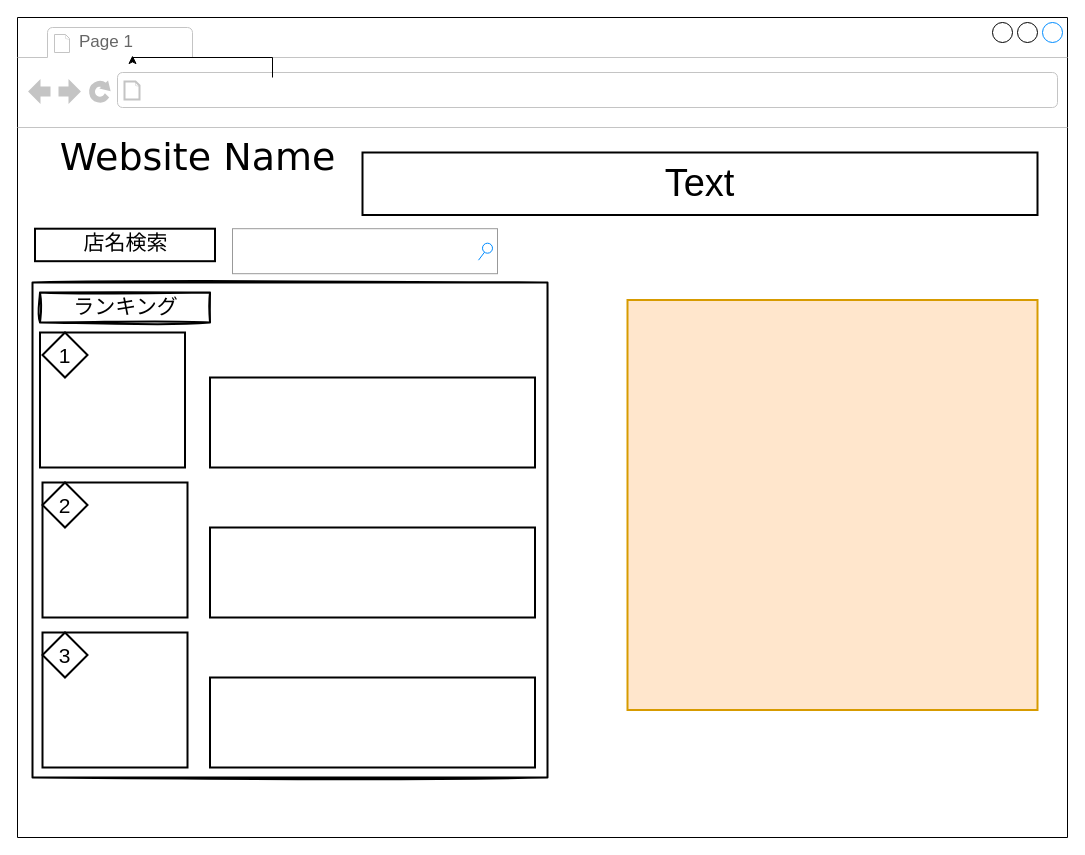
Image size: 1085x855. Some labels were removed from this diagram. The centre of each missing label's shape, as x and y in pixels:
https://www.default.com: the point at 272,90
Search: the point at 365,251
地図: the point at 832,504
